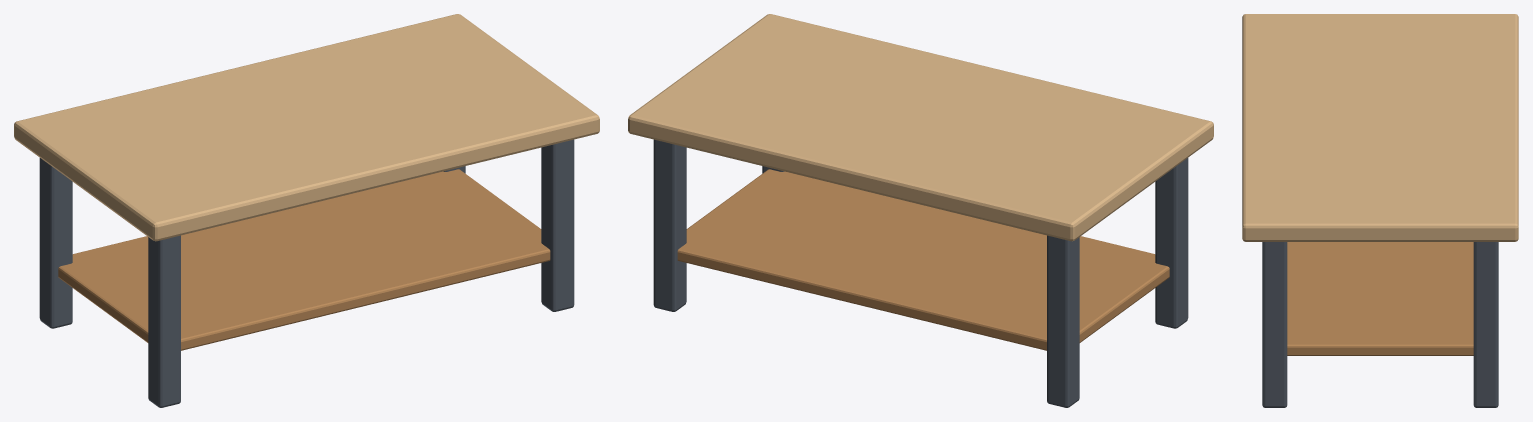
The model's file is coffee_table.glb.
The picture shows the model from 3 angles, left to right: view 1: azimuth 30°, elevation 25°; view 2: azimuth 150°, elevation 25°; view 3: azimuth 270°, elevation 25°; orthographic projection. The views are drawn at different scales.
Visible parts, largest first — view 1: Coffee_Top, Coffee_Shelf, Coffee_Leg.002, Coffee_Leg, Coffee_Leg.001; view 2: Coffee_Top, Coffee_Shelf, Coffee_Leg.003, Coffee_Leg.001, Coffee_Leg; view 3: Coffee_Top, Coffee_Shelf, Coffee_Leg.002, Coffee_Leg.003.
Part boxes in pixels (left/top/right/bottom): Coffee_Top: left=14, top=14, right=599, bottom=241; Coffee_Shelf: left=58, top=169, right=550, bottom=350; Coffee_Leg.002: left=541, top=139, right=574, bottom=311; Coffee_Leg: left=148, top=235, right=180, bottom=407; Coffee_Leg.001: left=39, top=158, right=72, bottom=328; Coffee_Top: left=628, top=14, right=1213, bottom=241; Coffee_Shelf: left=677, top=169, right=1169, bottom=350; Coffee_Leg.003: left=653, top=139, right=686, bottom=311; Coffee_Leg.001: left=1047, top=235, right=1079, bottom=407; Coffee_Leg: left=1155, top=158, right=1188, bottom=328; Coffee_Top: left=1242, top=14, right=1518, bottom=241; Coffee_Shelf: left=1287, top=242, right=1473, bottom=355; Coffee_Leg.002: left=1262, top=242, right=1287, bottom=407; Coffee_Leg.003: left=1473, top=242, right=1498, bottom=407.
Size of the model in its own units: 1 by 0.42 by 0.55.
